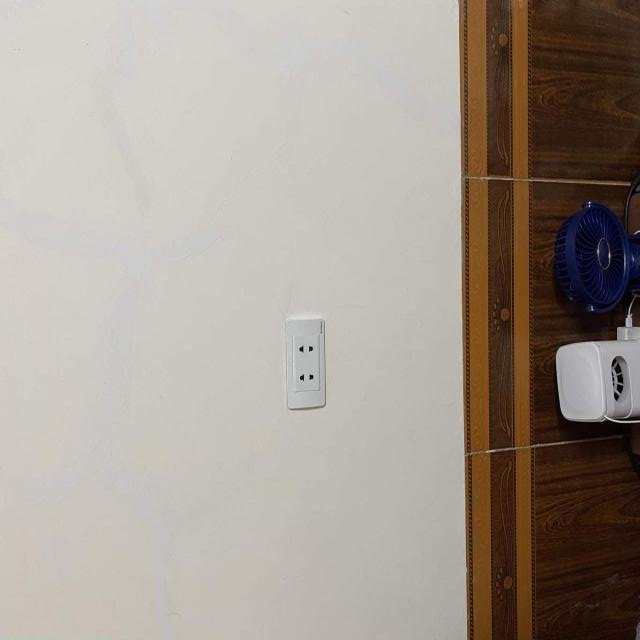outlet: (284, 318, 326, 410)
